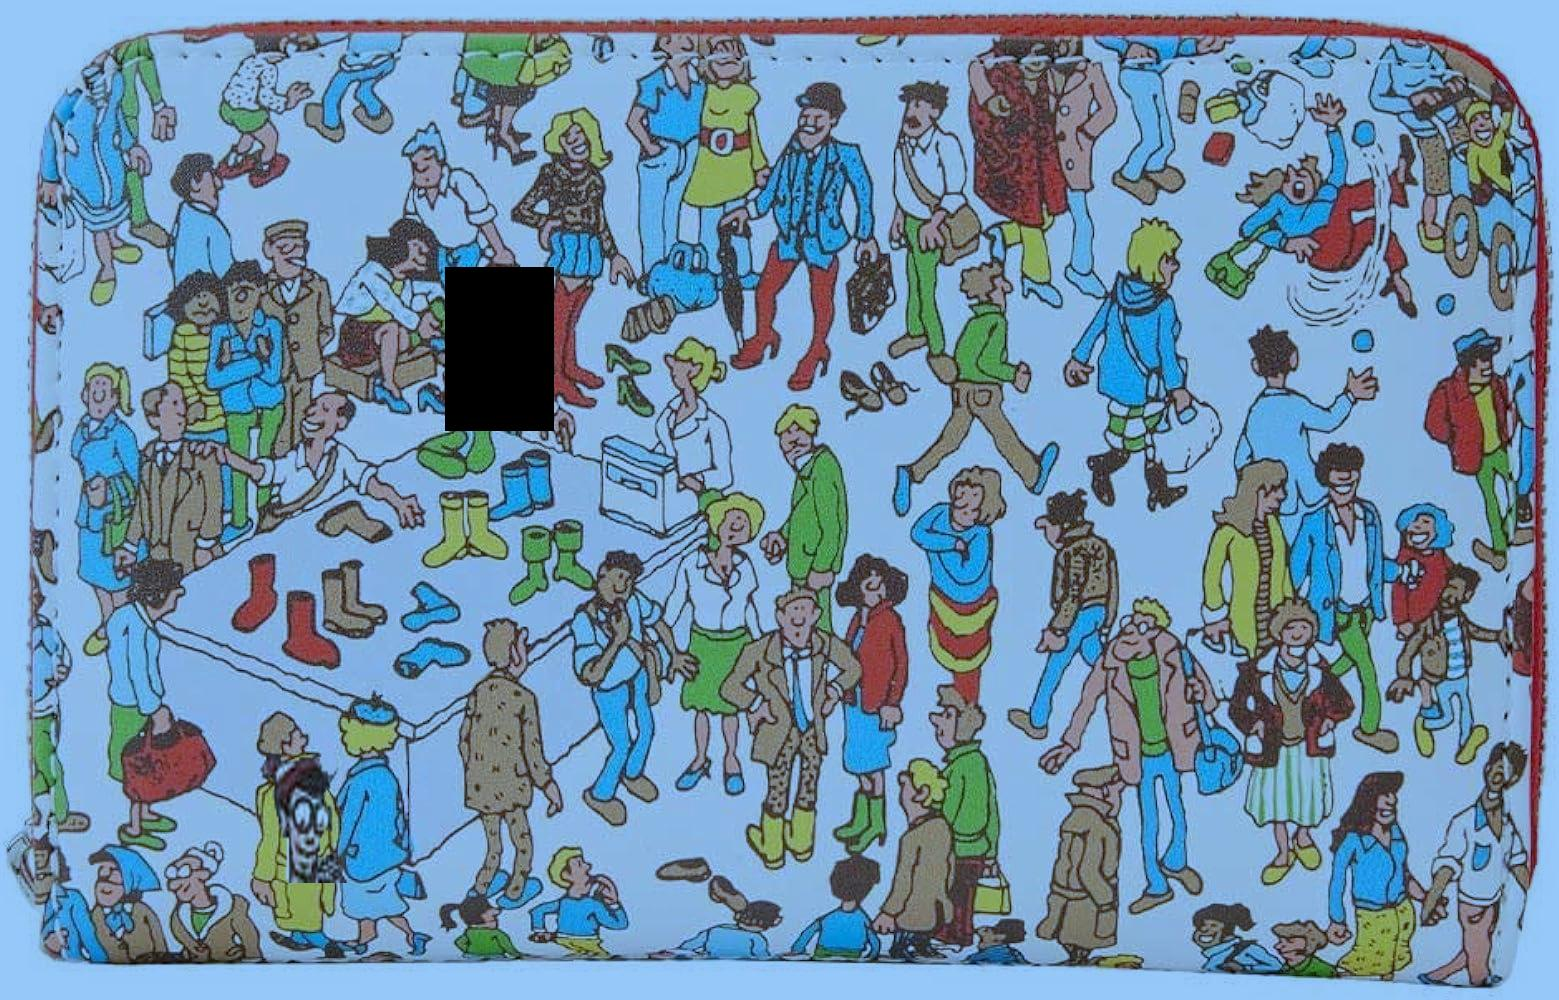waldos: (255, 719, 362, 883)
